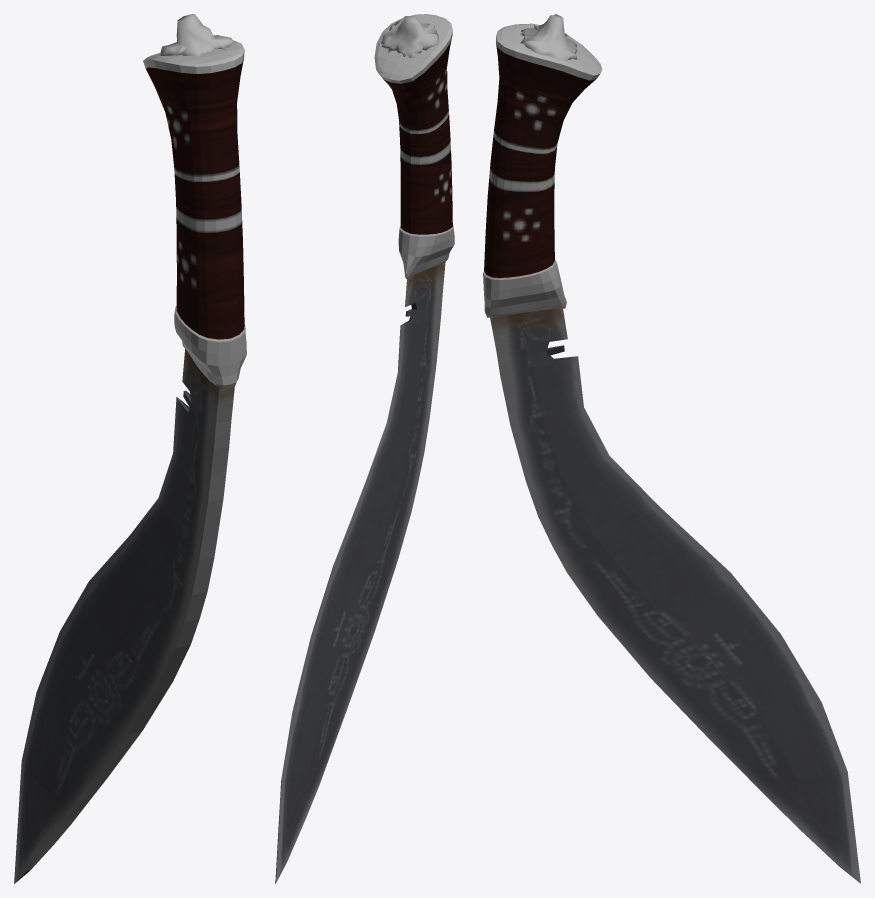
File: KukriMacheteSpike.fbx
3 renders of one model, left to right at view 1: azimuth 30°, elevation 25°; view 2: azimuth 150°, elevation 25°; view 3: azimuth 270°, elevation 25°, orthographic. The views are drawn at different scales.
Visible parts, largest first — view 1: uploads_files_769805_Leon+OBJ; view 2: uploads_files_769805_Leon+OBJ; view 3: uploads_files_769805_Leon+OBJ.
Boxes of the visible parts, bbox=[...] form: uploads_files_769805_Leon+OBJ: bbox=[14, 14, 246, 883]; uploads_files_769805_Leon+OBJ: bbox=[275, 14, 454, 883]; uploads_files_769805_Leon+OBJ: bbox=[483, 14, 860, 883].
Bounding box in the file's own units: 0.0282 × 0.3338 × 0.1317.
